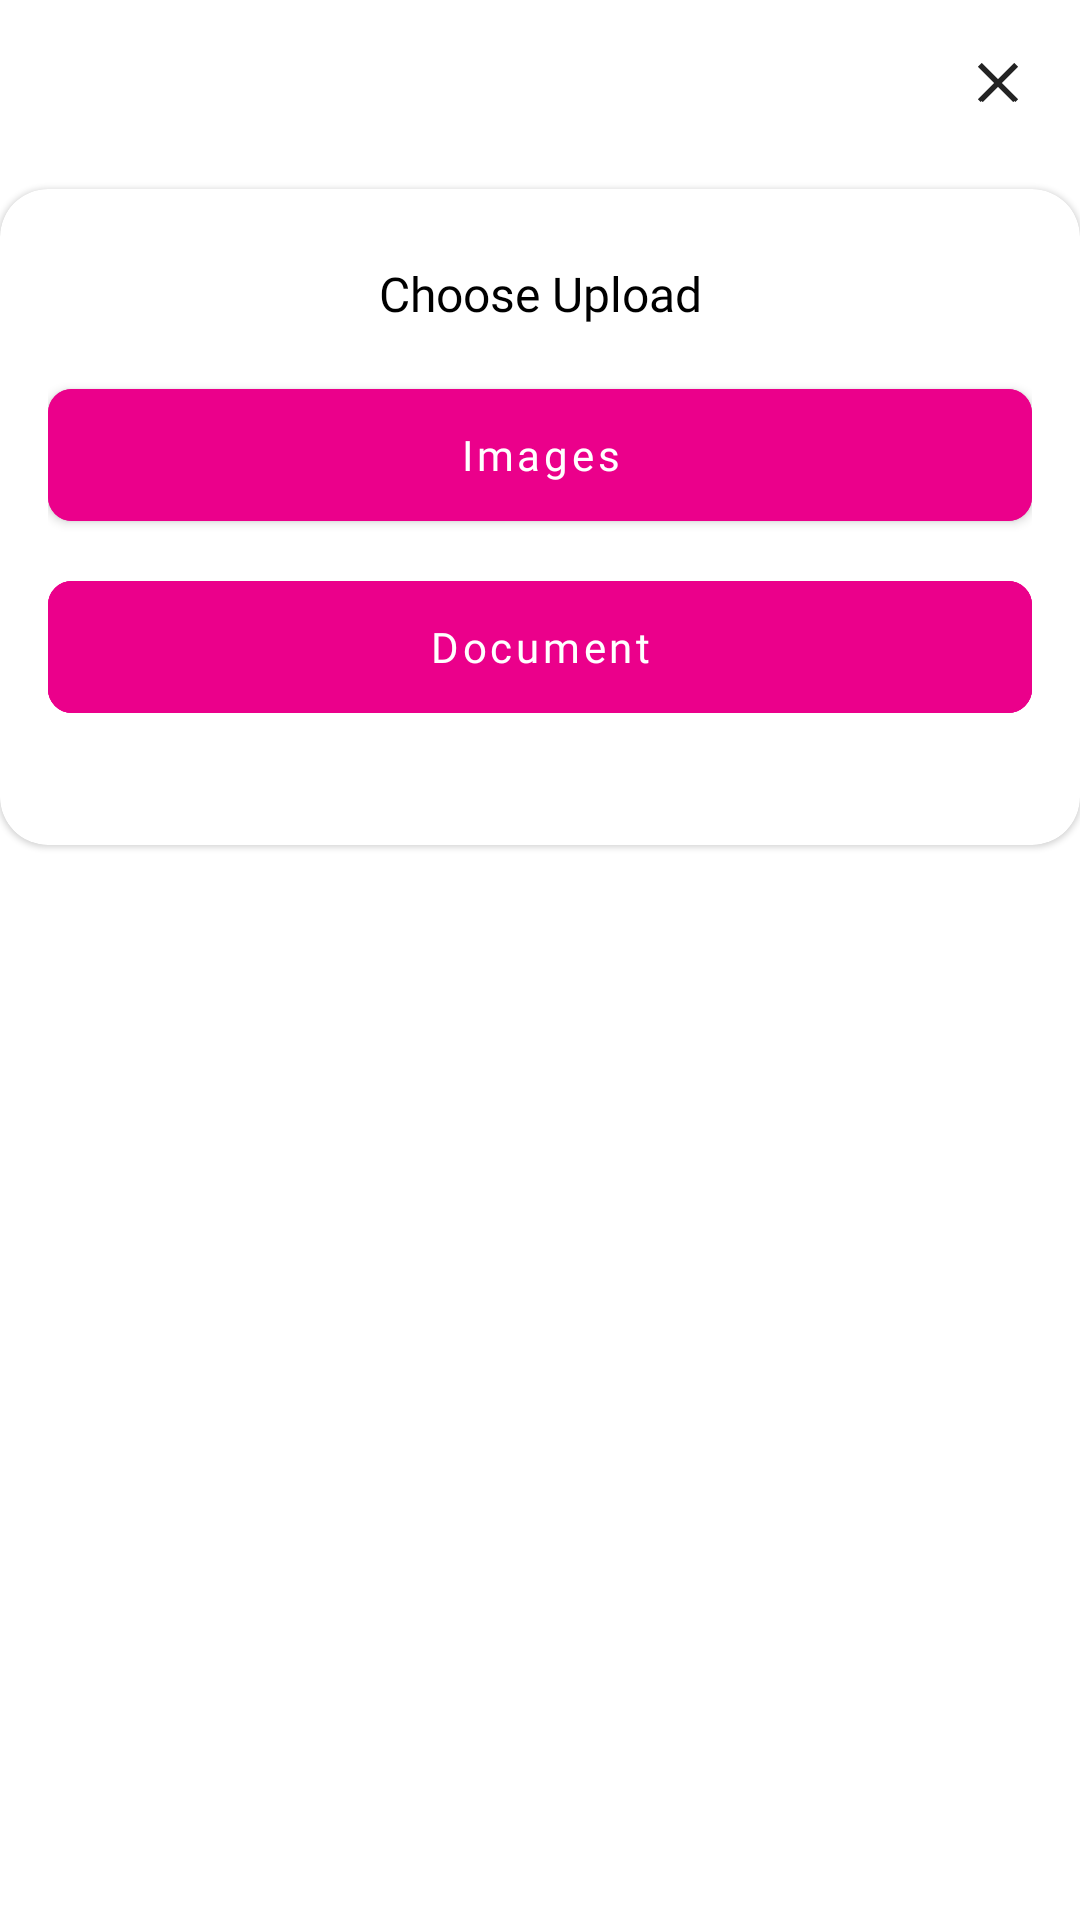

Where to tap for icons on this 1080w x 1920h app screen, as (x=x, y=y):
close: (x=998, y=82)
